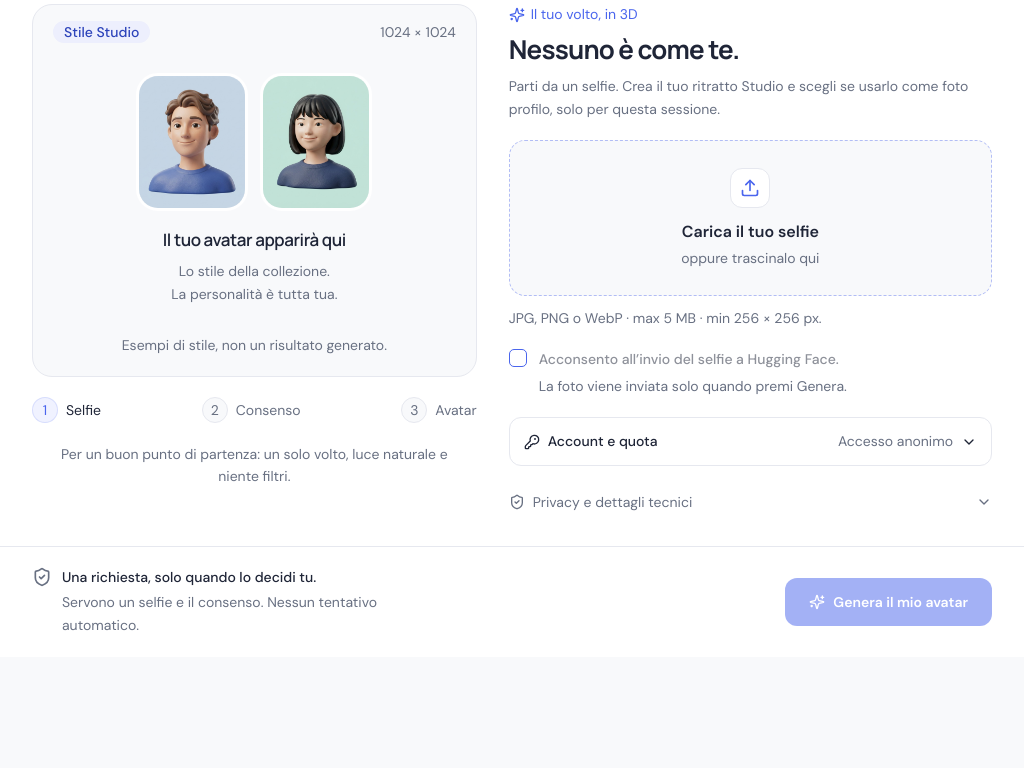
ZeroGPU selfie-to-avatar flow › requires a selfie and consent and starts with an empty optional token
Expected: the button "Genera il mio avatar" is disabled, [785,578,992,626]
Click the button "Account e quota Accesso anonimo". click: (603, 441)
box: [510,418,991,465]
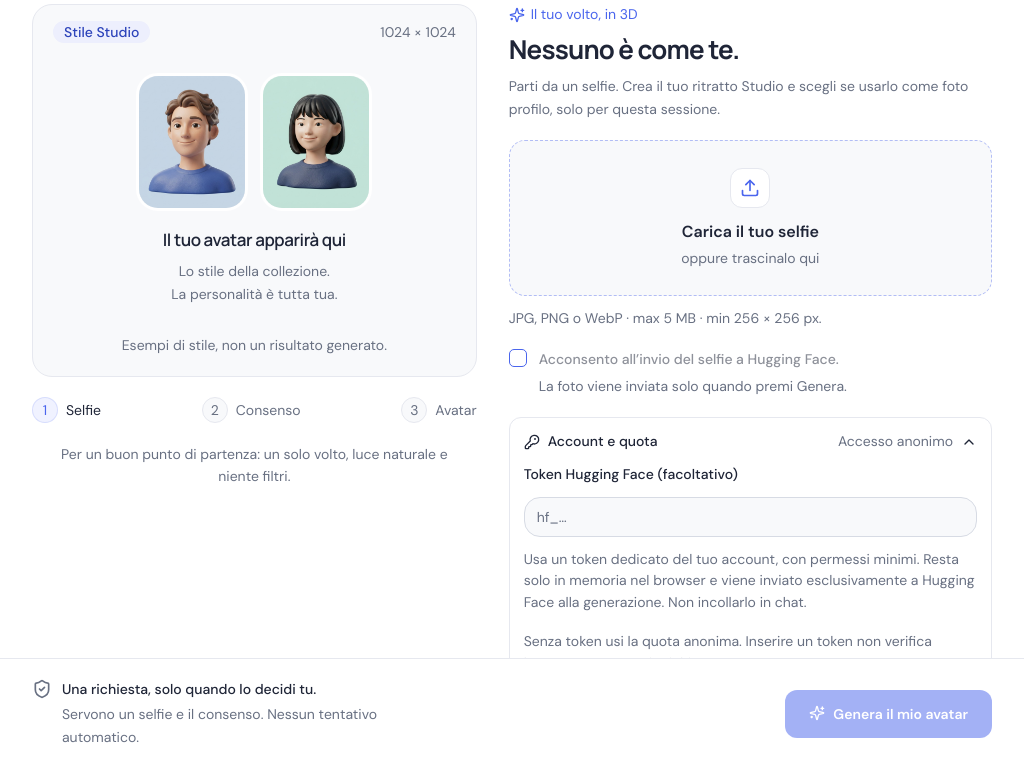
Expected: the checkbox is not checked, [509,349,527,367]
Result: the password field labelled "Token Hugging Face (facoltativo)" is empty at [524,496,977,536]
